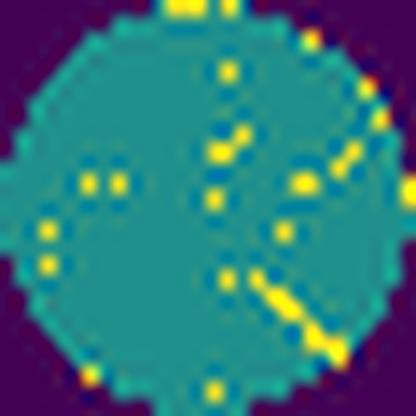Scratch: (244, 262, 352, 370)
